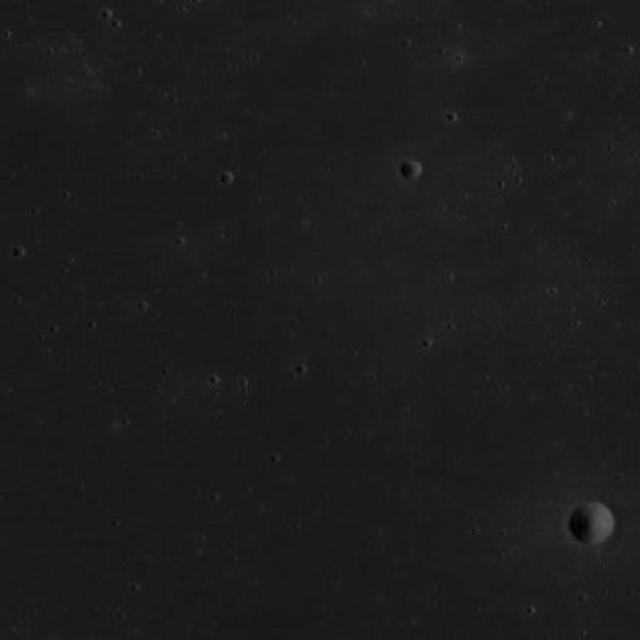crater: (570, 502, 616, 546), (401, 161, 424, 182)
